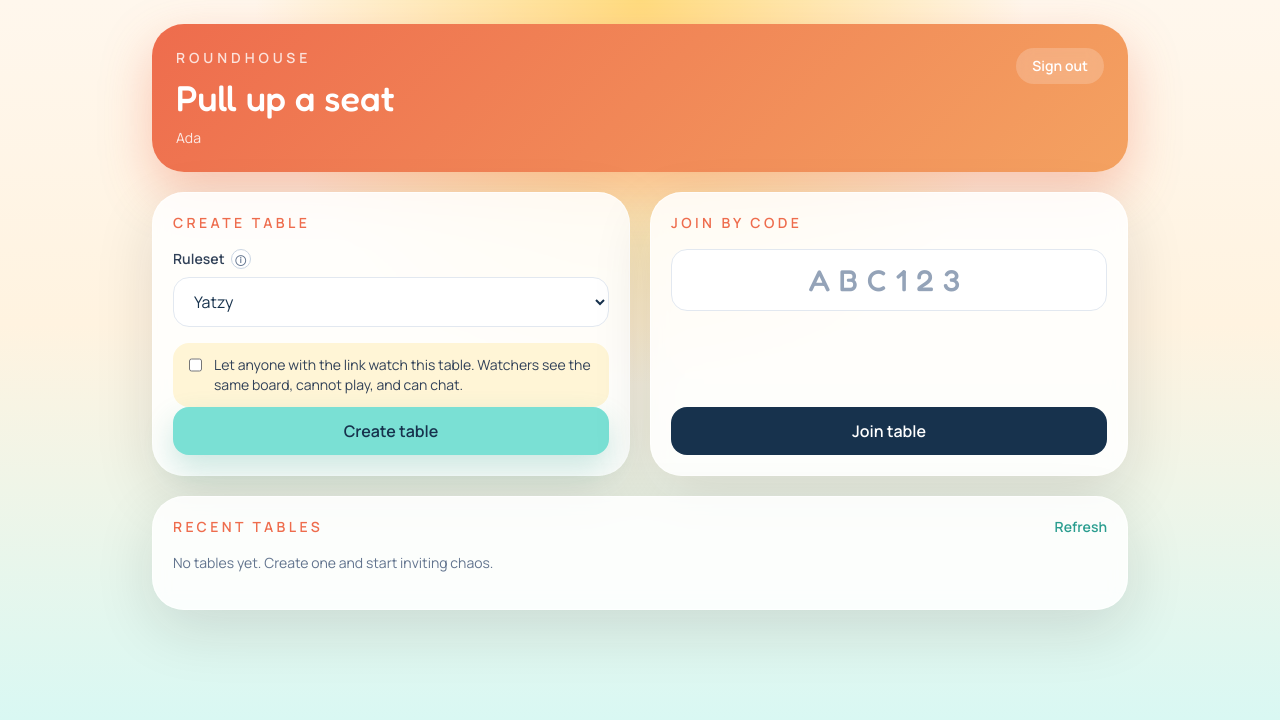
Test: LobbyPage layout › shows ruleset contrast help beside the picker
This screenshot has width=1280, height=720.
Expected: the dropdown labelled "Ruleset" is shown, [173,277,609,327]
Click the button named "About rulesets".
click(240, 259)  # box [230,249,250,269]
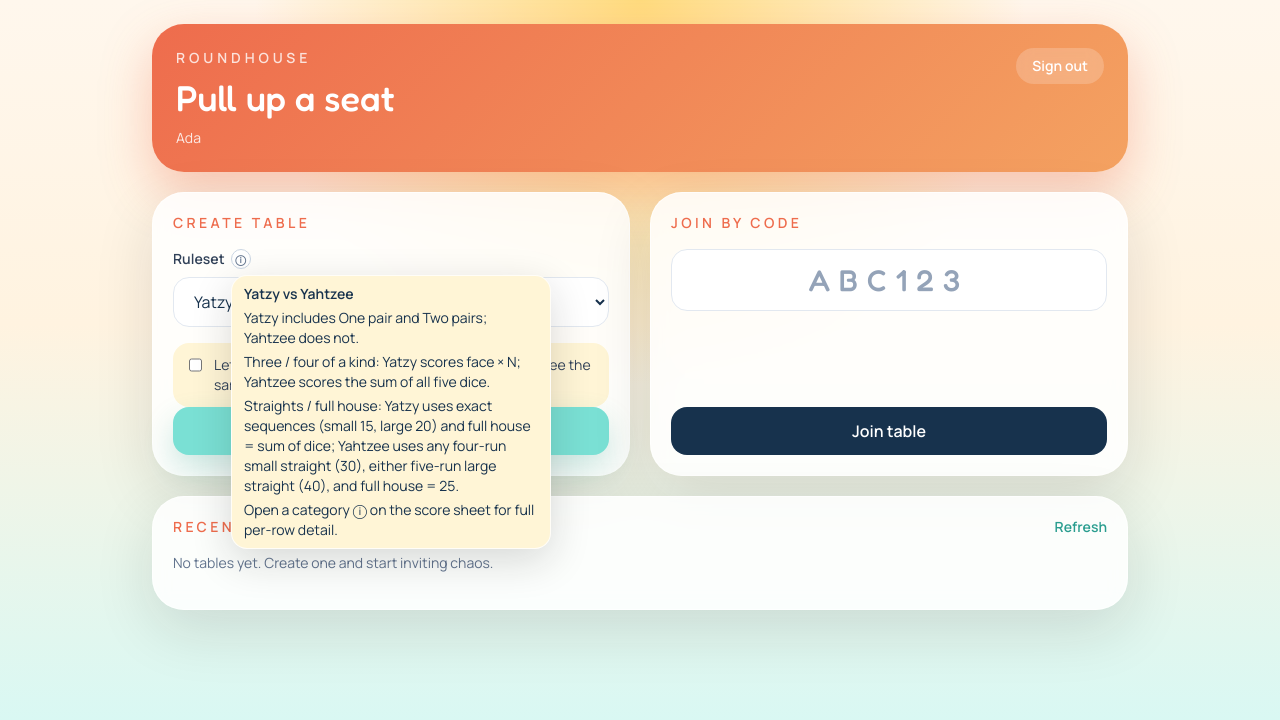
Expected: the dropdown labelled "Ruleset" shows "Yatzy", [173,277,609,327]
Now the text "Yatzy vs Yahtzee" is shown, box [244,284,354,303]
Now the text "Yatzy includes One pair and Two pairs; Yahtzee does not." is shown, box [244,308,487,347]
